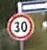limite 30: (6, 12, 35, 40)
